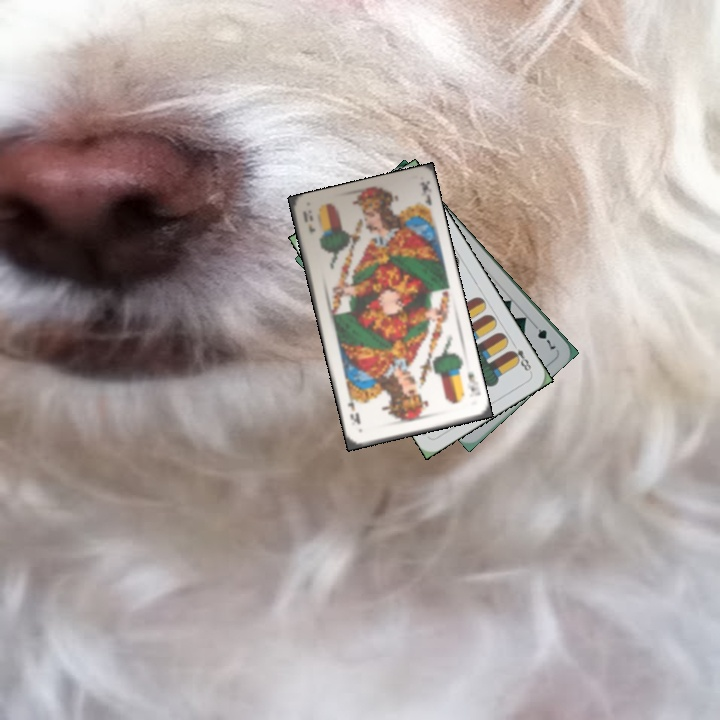E8: (506, 338, 534, 375)
EK: (464, 368, 483, 399), (298, 208, 318, 235)
G7: (529, 318, 558, 352)
